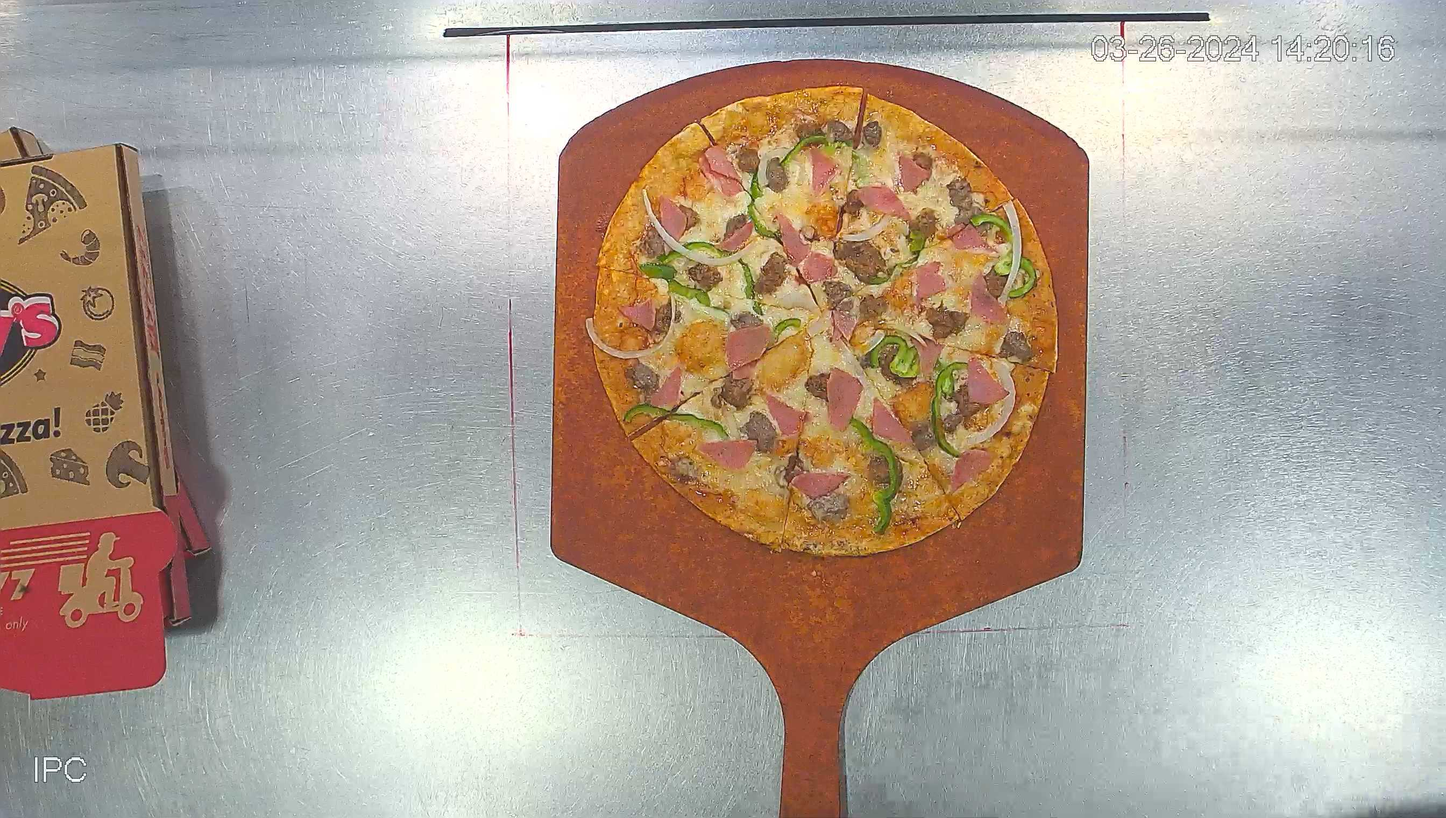hawaiian: (581, 86, 1059, 559)
